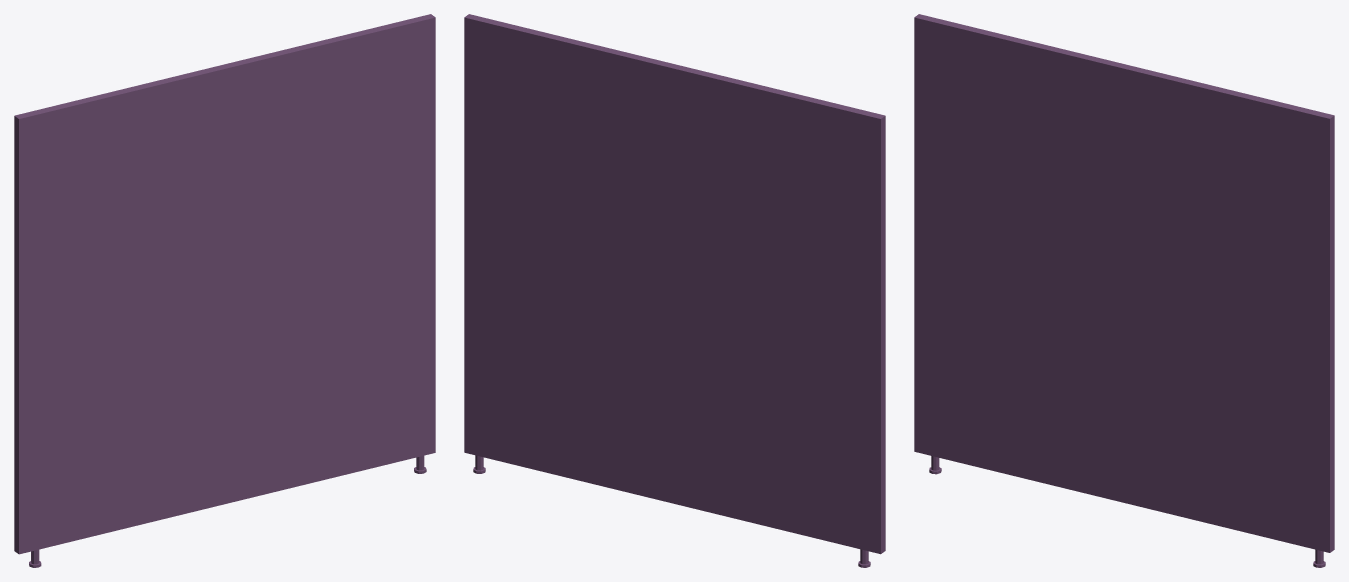
File: mesh_tolietwall.fbx
The picture shows the model from 3 angles, left to right: view 1: azimuth 30°, elevation 25°; view 2: azimuth 150°, elevation 25°; view 3: azimuth 330°, elevation 25°; orthographic projection.
Visible parts, largest first — view 1: pCylinder3; view 2: pCylinder3; view 3: pCylinder3.
Boxes of the visible parts, x1=… form: pCylinder3: x1=14, y1=14, x2=435, y2=567; pCylinder3: x1=464, y1=14, x2=885, y2=567; pCylinder3: x1=914, y1=14, x2=1334, y2=567.
Bounding box in the file's own units: 218 × 226 × 5.85.
